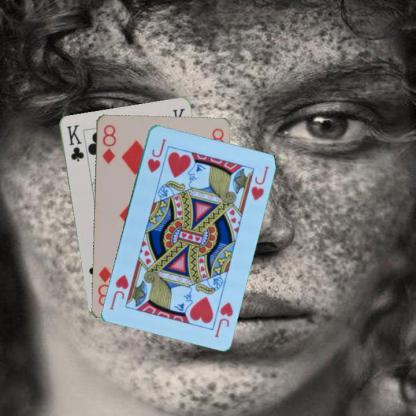8d: (100, 122, 118, 165)
Jh: (144, 136, 168, 173), (212, 298, 234, 338)
Kc: (64, 122, 85, 162)
